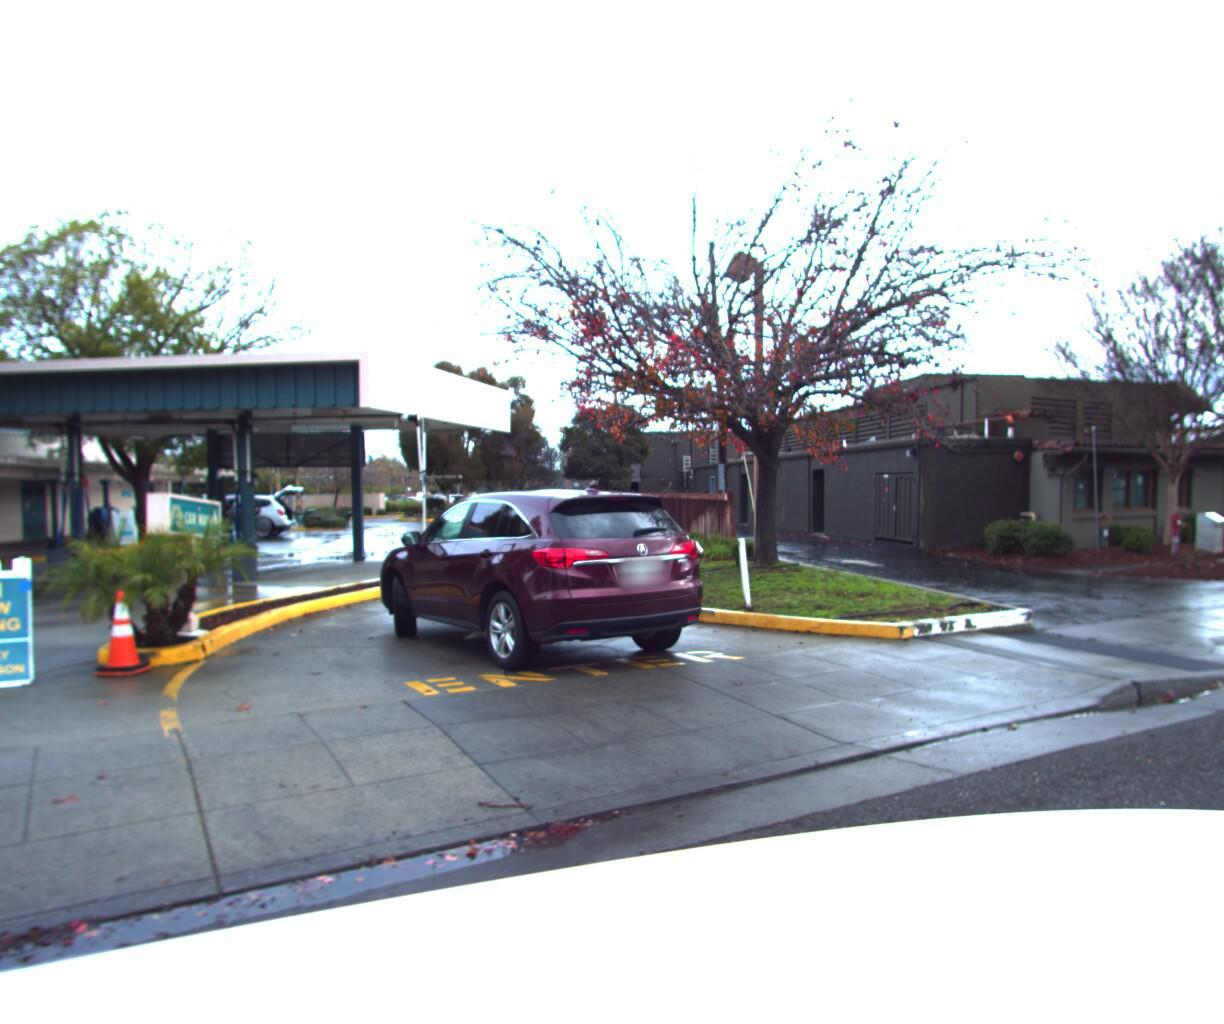car: (370, 483, 722, 686), (161, 496, 302, 544)
